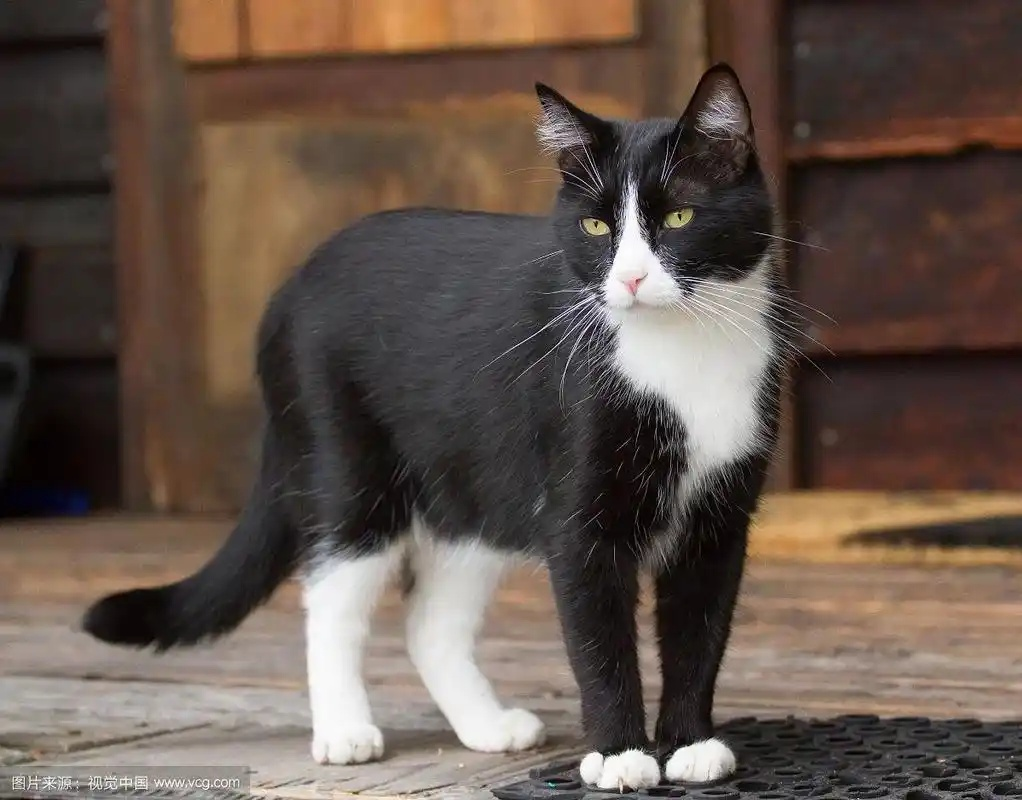奶牛猫: (261, 65, 788, 783)
